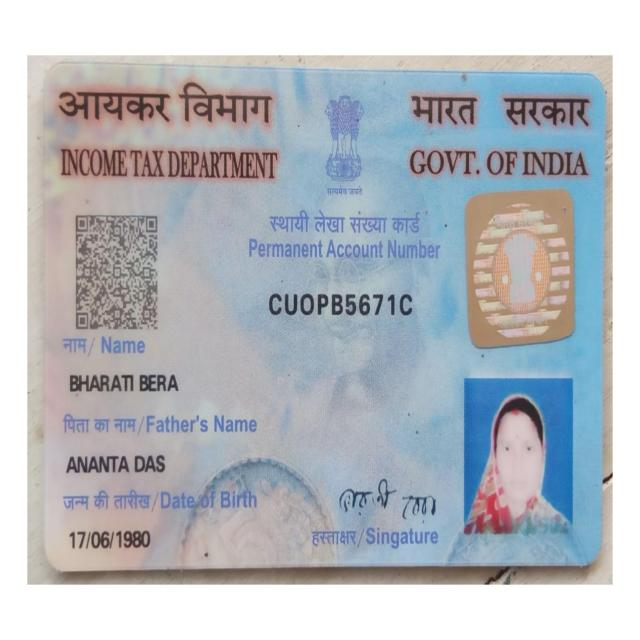pan_card: (54, 78, 594, 560)
